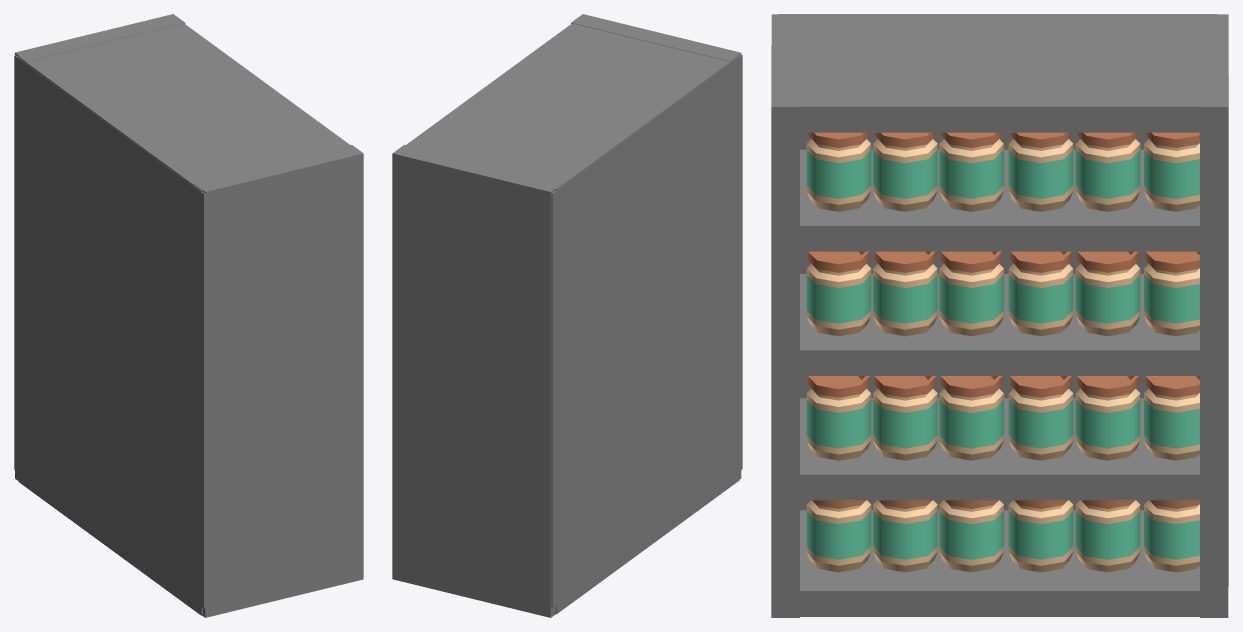
The model's file is pb_shelf.gltf.
3 views of the same model, side by side, from view 1: azimuth 30°, elevation 25°; view 2: azimuth 150°, elevation 25°; view 3: azimuth 270°, elevation 25° (orthographic). The views are drawn at different scales.
Visible parts, largest first — view 1: Cube.001; view 2: Cube.001; view 3: Cube.001, peanutButter.013, peanutButter.009, peanutButter.015, peanutButter.007, peanutButter.012, peanutButter.008, peanutButter.014, peanutButter.006.
Part boxes in pixels (left/top/right/bottom): Cube.001: left=14, top=14, right=363, bottom=617; Cube.001: left=392, top=14, right=742, bottom=617; Cube.001: left=771, top=14, right=1228, bottom=617; peanutButter.013: left=873, top=251, right=1199, bottom=336; peanutButter.009: left=873, top=376, right=1199, bottom=460; peanutButter.015: left=873, top=132, right=1199, bottom=211; peanutButter.007: left=873, top=500, right=1199, bottom=572; peanutButter.012: left=806, top=251, right=871, bottom=336; peanutButter.008: left=806, top=376, right=871, bottom=460; peanutButter.014: left=806, top=132, right=871, bottom=211; peanutButter.006: left=806, top=500, right=871, bottom=572.
Bounding box in the file's own units: 4.03 × 10.28 × 8.34.
